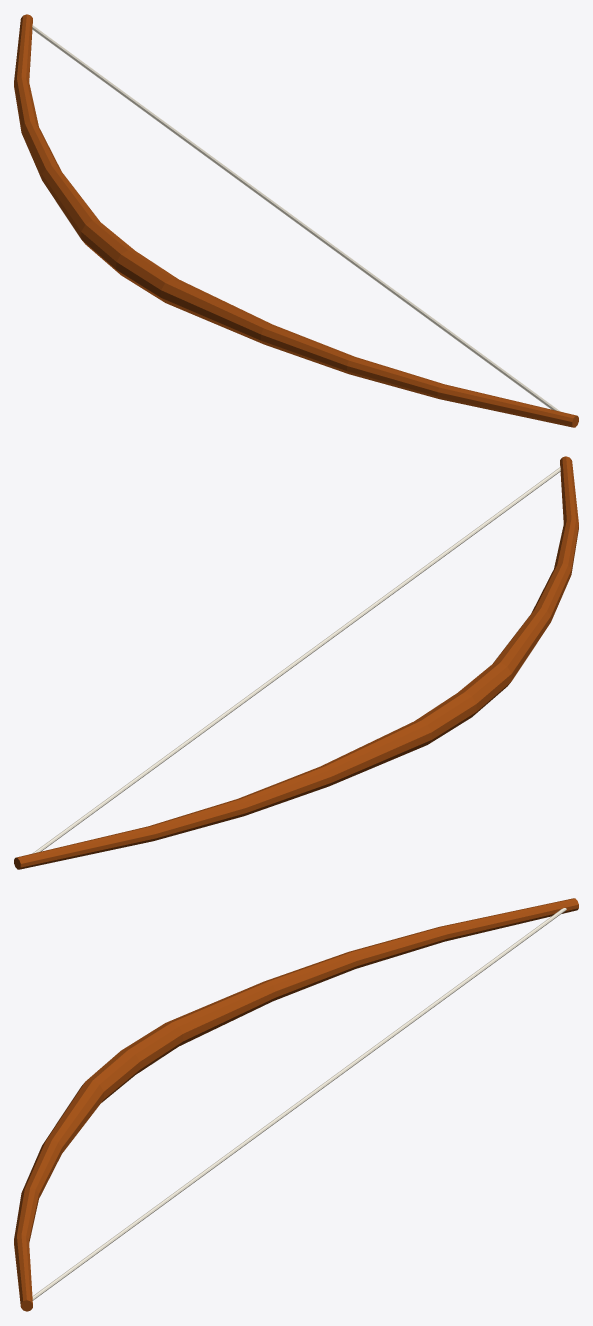
Rendered from Bow_01.fbx.
3 renders of one model, top to bottom at view 1: azimuth 30°, elevation 25°; view 2: azimuth 150°, elevation 25°; view 3: azimuth 330°, elevation 25°, orthographic.
Parts seen in each view (by area): view 1: Bow_01; view 2: Bow_01; view 3: Bow_01.
Boxes of the visible parts, x1,y1,x2,y2 form: Bow_01: [14, 14, 578, 427]; Bow_01: [14, 456, 578, 869]; Bow_01: [14, 898, 578, 1311].
Bounding box in the file's own units: 27.18 × 3.55 × 137.
